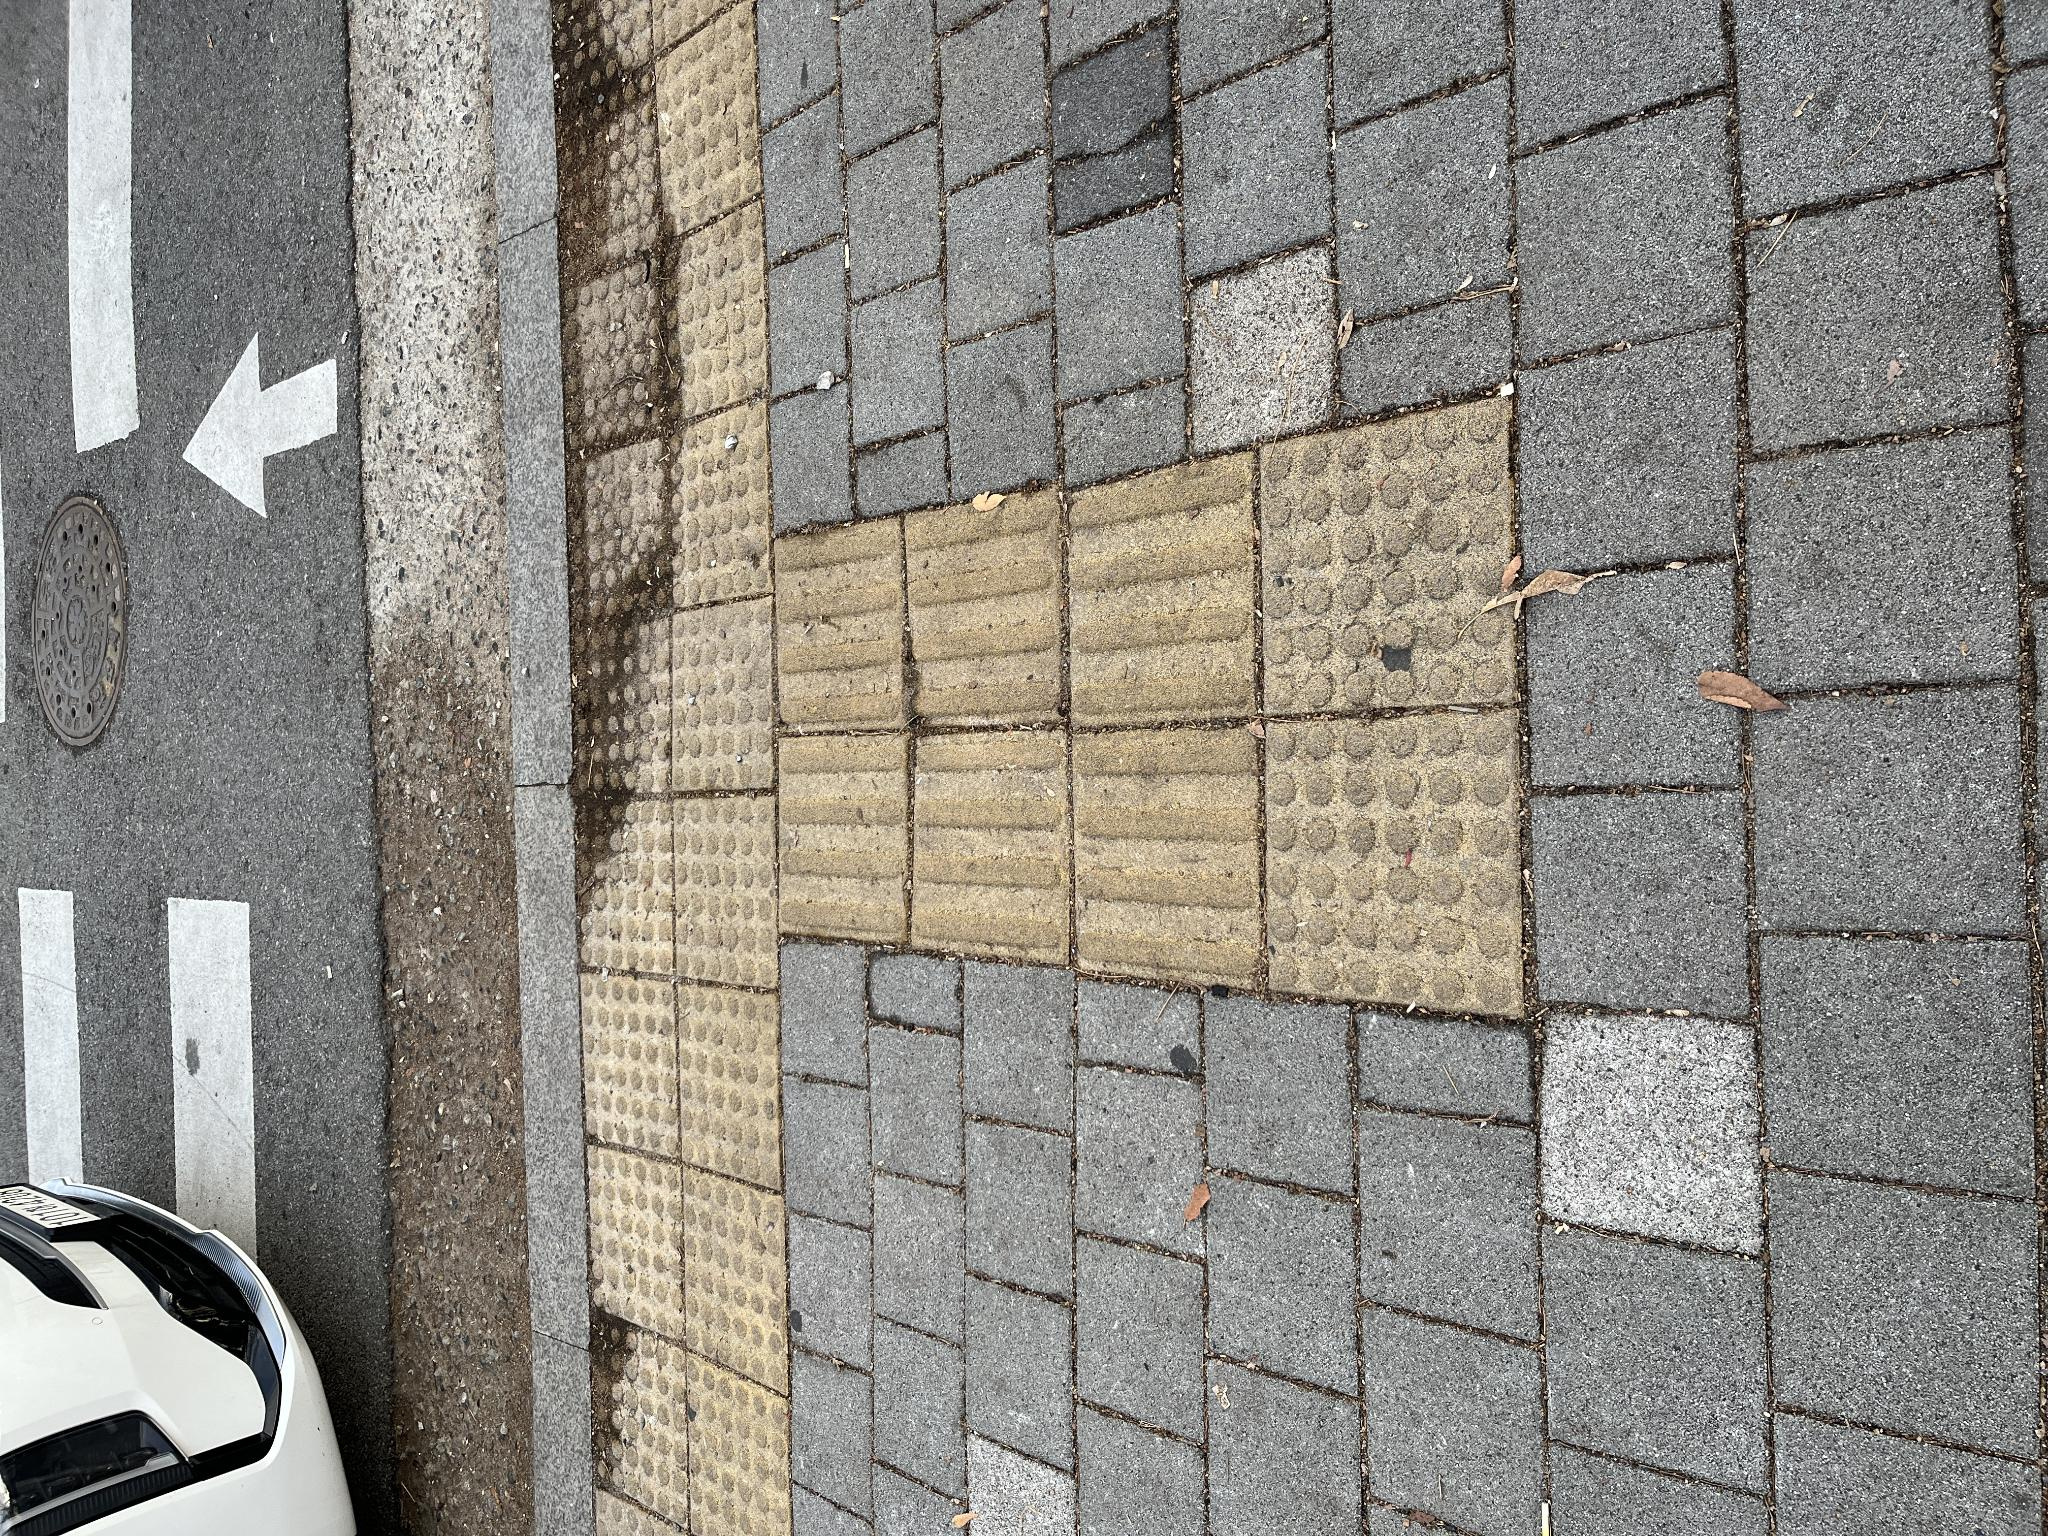Stop block normal: (823, 1264, 1135, 1516), (525, 1268, 822, 1522), (1300, 657, 1535, 758), (1115, 662, 1332, 768), (144, 684, 367, 785), (930, 667, 1136, 773), (1255, 559, 1470, 657), (348, 678, 550, 778), (549, 673, 740, 774), (11, 593, 220, 685), (914, 569, 1102, 670), (1086, 564, 1281, 661), (194, 587, 391, 682), (746, 673, 936, 771), (380, 582, 562, 677), (563, 577, 736, 673), (742, 576, 919, 669)
Straight block normal: (815, 1070, 1084, 1255), (550, 1074, 810, 1258), (814, 906, 1050, 1062), (575, 914, 806, 1067), (809, 777, 1014, 905), (596, 781, 801, 903)
